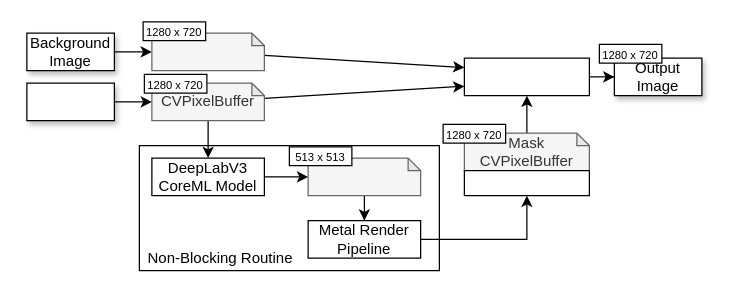
Image size: 731x293. Some labels were removed from this diagram. Each missing label, with the centre of its shape:
CIFilter CIBlendWithMask: point 526,76
CIImage: point 207,51
Image Mask MLMultiArray: point 364,176
Non-Blocking Update: point 526,182
Webcam Input: point 71,103
